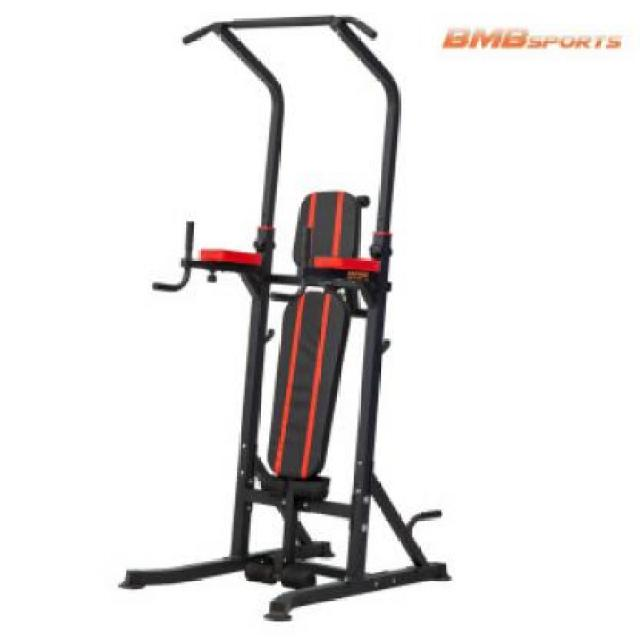chinning dipping: (118, 16, 451, 618)
